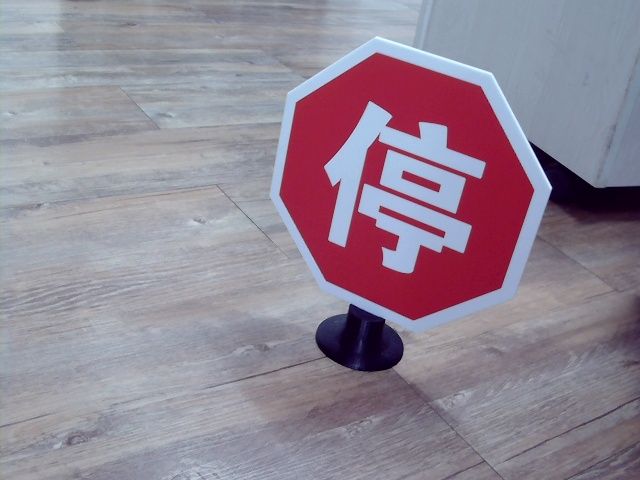stop: (326, 93, 479, 269)
